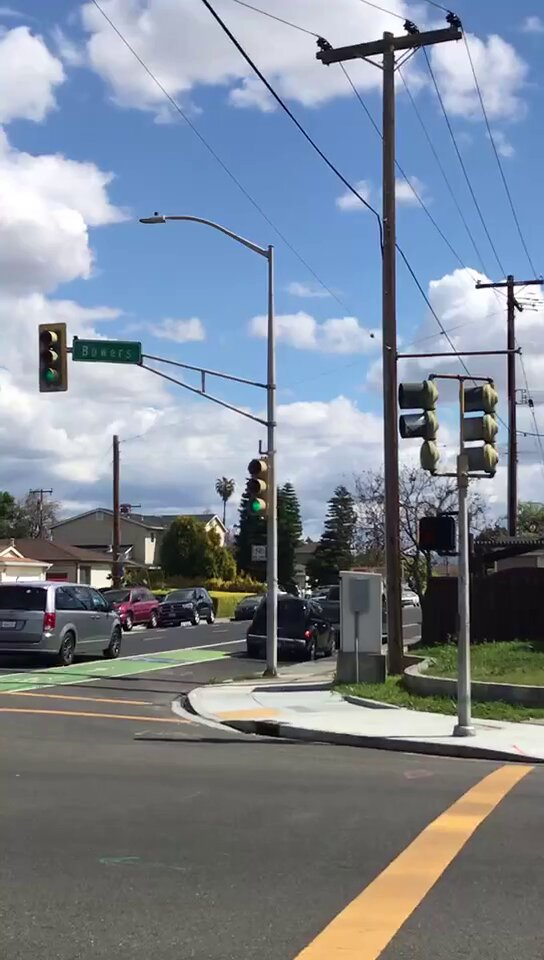green_light: (40, 324, 67, 392), (249, 459, 270, 520)
